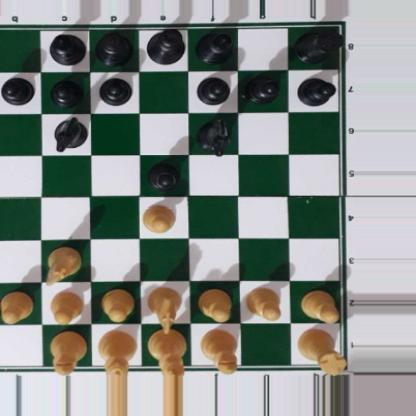black-bishop: (192, 29, 235, 63), (48, 31, 85, 64)
black-king: (144, 30, 186, 65)
black-knight: (196, 115, 231, 154), (53, 116, 86, 150)
black-pawn: (297, 75, 334, 106), (147, 159, 182, 191), (196, 74, 231, 104), (246, 73, 279, 104), (98, 75, 130, 106), (50, 77, 82, 107), (0, 75, 32, 105)
black-queen: (94, 29, 133, 63)
black-rook: (295, 23, 339, 63)
white-bishop: (49, 332, 89, 377), (199, 329, 237, 372)
white-king: (147, 326, 186, 375)
white-knight: (146, 285, 183, 334), (43, 244, 81, 284)
white-pawn: (244, 285, 283, 319), (300, 287, 338, 321), (198, 287, 233, 320), (49, 291, 84, 324), (99, 288, 133, 321), (0, 289, 32, 321), (141, 203, 175, 232)
white-queen: (96, 329, 137, 376)
white-rook: (298, 325, 344, 374)
